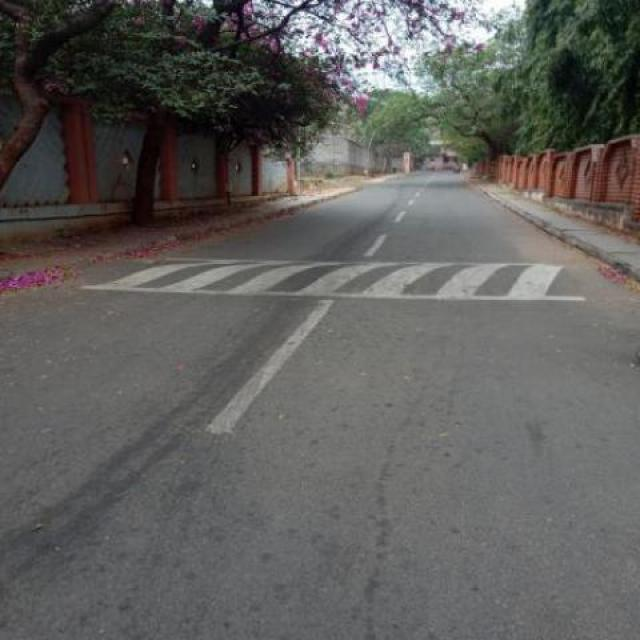Speed Bump: (67, 258, 638, 302)
